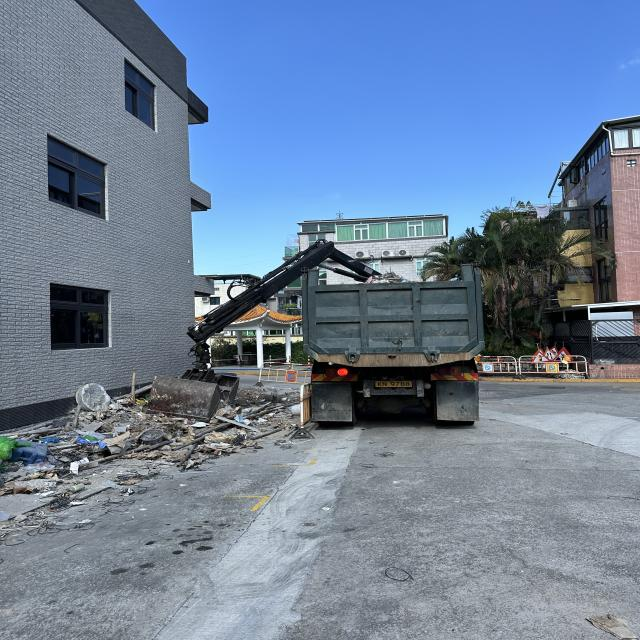machinery: (144, 235, 493, 428)
